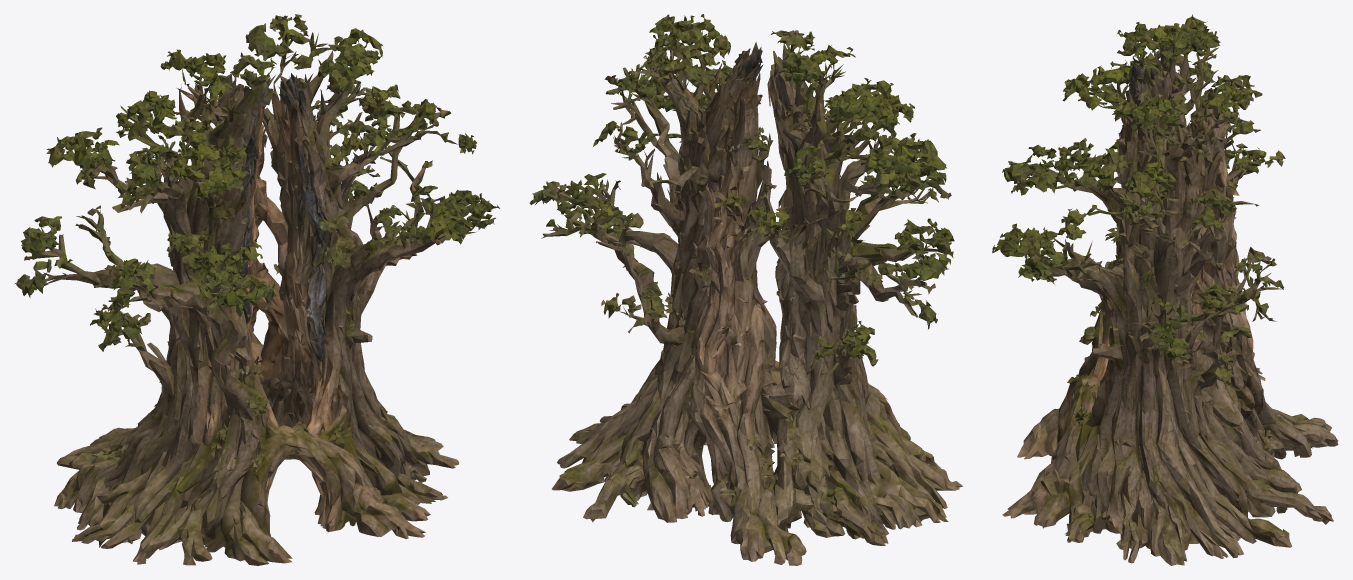
The picture shows the model from 3 angles, left to right: view 1: azimuth 30°, elevation 25°; view 2: azimuth 150°, elevation 25°; view 3: azimuth 270°, elevation 25°; orthographic projection. The views are drawn at different scales.
Bounding box in the file's own units: 1.84 × 1.86 × 1.31.
1 material, 1 textured.
